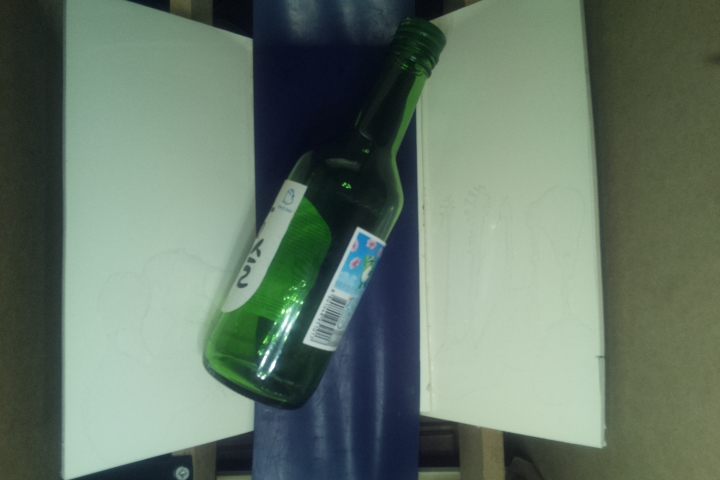soju: (200, 14, 449, 412)
